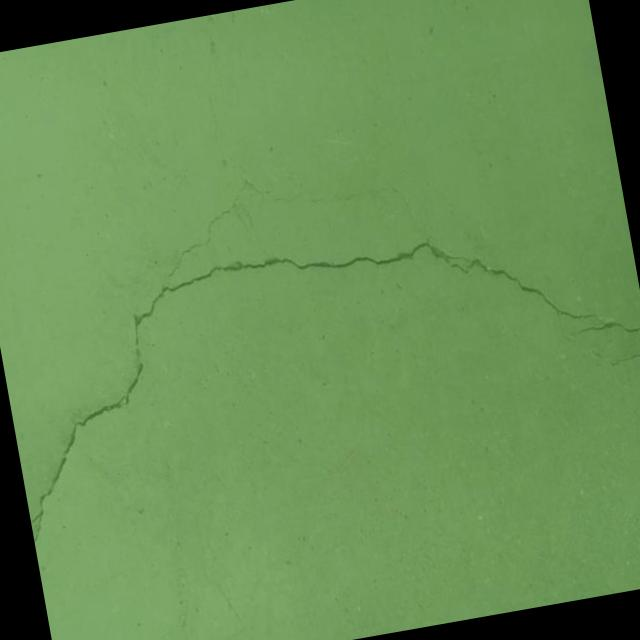crack: (0, 191, 640, 542), (154, 148, 423, 276), (610, 349, 640, 366)
